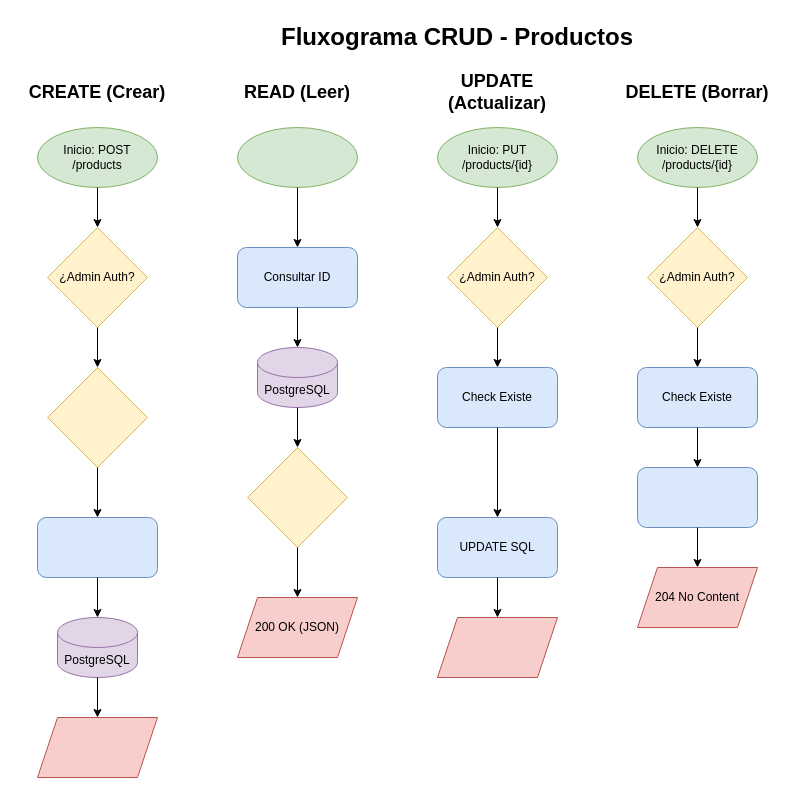
Image size: 794x795. Some labels were removed from this diagram. Each missing label, with the box of its shape:
200 OK (Updated): (436, 616, 558, 678)
201 Created: (36, 716, 158, 778)
DELETE SQL: (636, 466, 758, 528)
Guardar en DB: (36, 516, 158, 578)
Inicio: GET /products/{id}: (236, 126, 358, 188)
¿Datos Válidos?: (46, 366, 148, 468)
¿Existe?: (246, 446, 348, 548)
